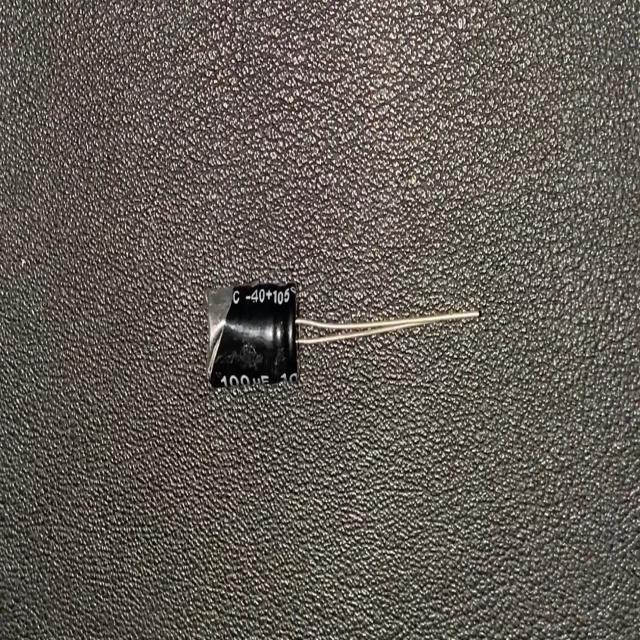capacitor: (202, 277, 484, 397)
cracked: (207, 283, 236, 383)
